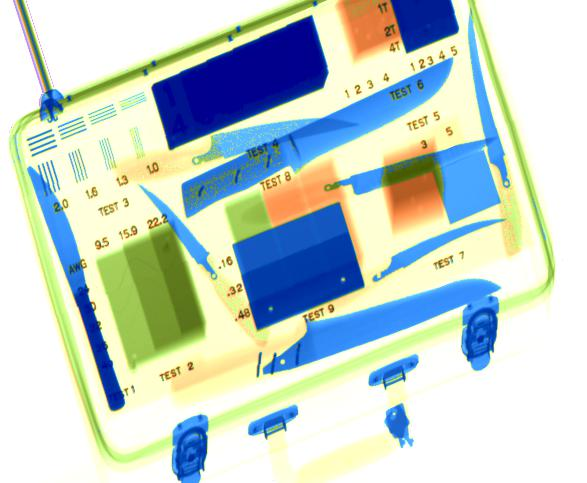Knife: (181, 57, 455, 218), (256, 277, 503, 378), (26, 165, 126, 412), (121, 117, 358, 184), (467, 7, 525, 257), (137, 184, 236, 304), (323, 137, 497, 198), (367, 217, 508, 289)
